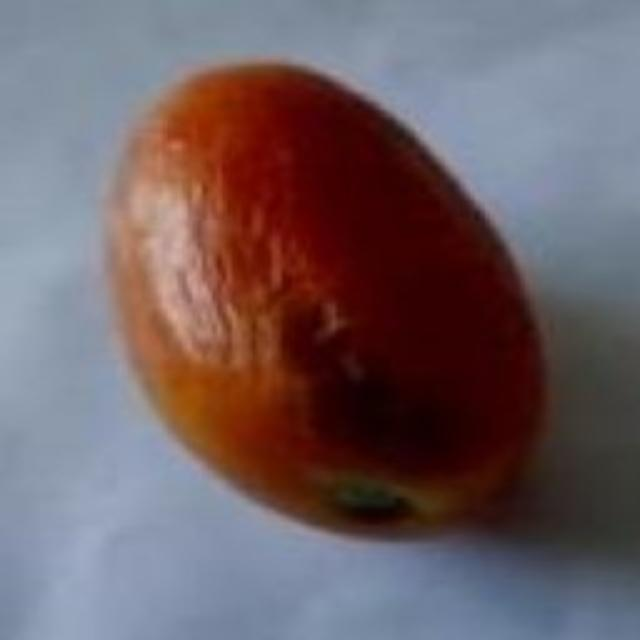defect: (100, 63, 564, 547)
